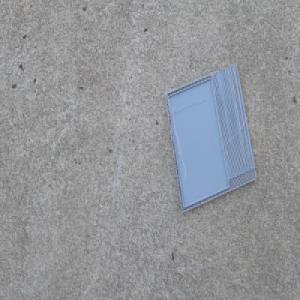PlasticPart: (164, 61, 257, 213)
